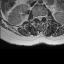CCS_normal: (39, 12, 41, 23)
LFS_stenosis: (43, 13, 45, 20)
LLS_normal: (41, 13, 43, 20)
RFS_normal: (34, 13, 37, 20)
RLS_normal: (36, 13, 39, 21)
